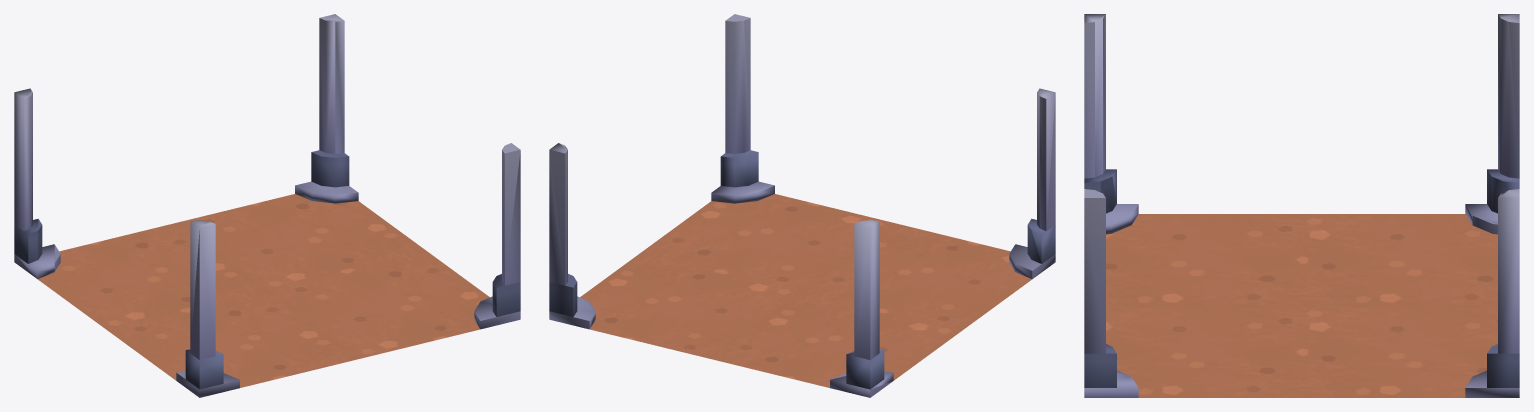
File: corridor-wide-intersection.fbx
3 views of the same model, side by side, from view 1: azimuth 30°, elevation 25°; view 2: azimuth 150°, elevation 25°; view 3: azimuth 270°, elevation 25° (orthographic). The views are drawn at different scales.
Visible parts, largest first — view 1: corridor-wide-intersection; view 2: corridor-wide-intersection; view 3: corridor-wide-intersection.
Part boxes in pixels (box(x1,y1,x2,y2)): corridor-wide-intersection: box(14, 14, 520, 397); corridor-wide-intersection: box(549, 14, 1055, 397); corridor-wide-intersection: box(1084, 14, 1519, 397).
Bounding box in the file's own units: 800 × 405 × 800.
